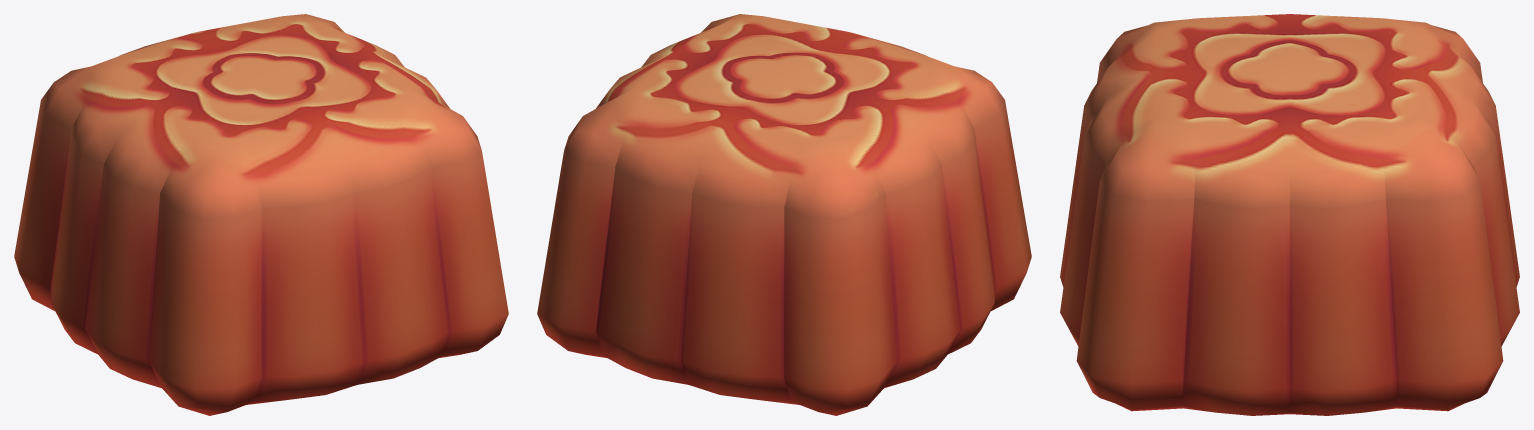
File: 010-Mooncakes_006.FBX
3 views of the same model, side by side, from view 1: azimuth 30°, elevation 25°; view 2: azimuth 150°, elevation 25°; view 3: azimuth 270°, elevation 25° (orthographic). The views are drawn at different scales.
Parts seen in each view (by area): view 1: 010-Mooncakes_006; view 2: 010-Mooncakes_006; view 3: 010-Mooncakes_006.
Boxes of the visible parts, left/top/right/bottom form: 010-Mooncakes_006: left=14, top=14, right=508, bottom=415; 010-Mooncakes_006: left=537, top=14, right=1031, bottom=415; 010-Mooncakes_006: left=1060, top=14, right=1519, bottom=415.
Size of the model in its own units: 12.03 by 8.16 by 12.1.
